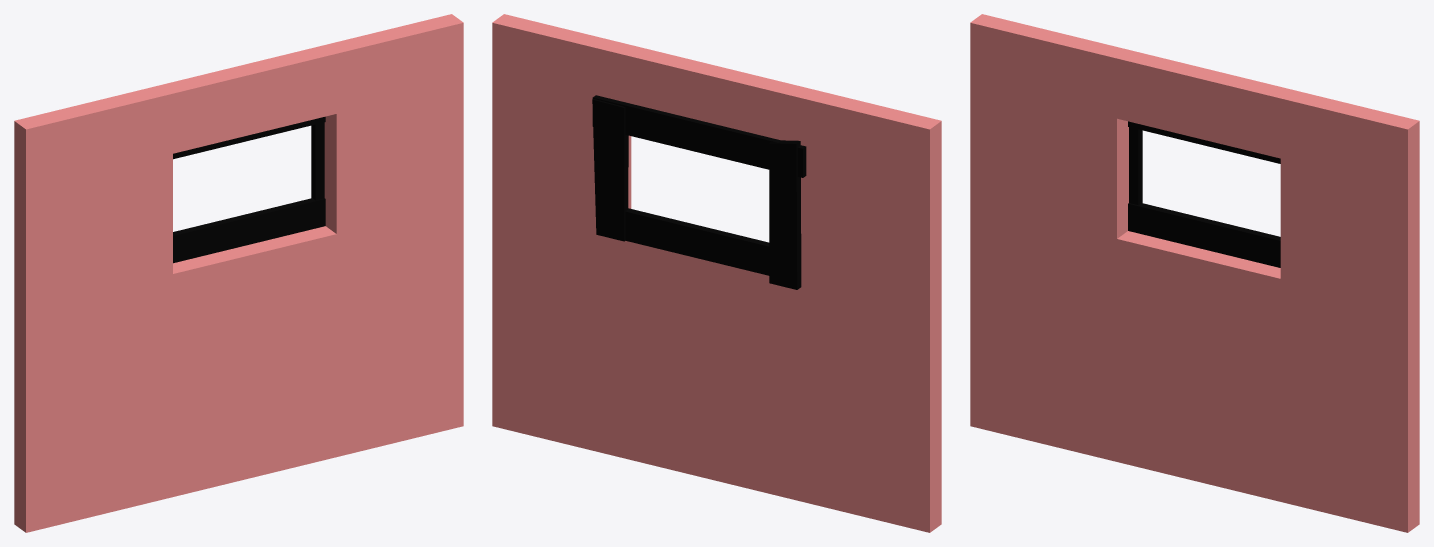
Rendered from 3D_BUILD_WINDOWWALL2.FBX.
3 renders of one model, left to right at view 1: azimuth 30°, elevation 25°; view 2: azimuth 150°, elevation 25°; view 3: azimuth 330°, elevation 25°, orthographic.
Parts seen in each view (by area): view 1: Wall, Window; view 2: Wall, Window; view 3: Wall, Window.
Boxes of the visible parts, x1,y1,x2,y2 form: Wall: (14,14,463,532); Window: (173,116,325,263); Wall: (492,14,941,532); Window: (592,95,806,289); Wall: (970,14,1419,532); Window: (1128,121,1280,267).
Size of the model in its own units: 227 by 200 by 14.47.
